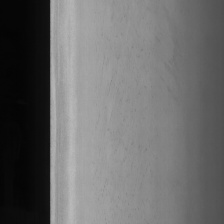silk_spot: (97, 11, 146, 174)
